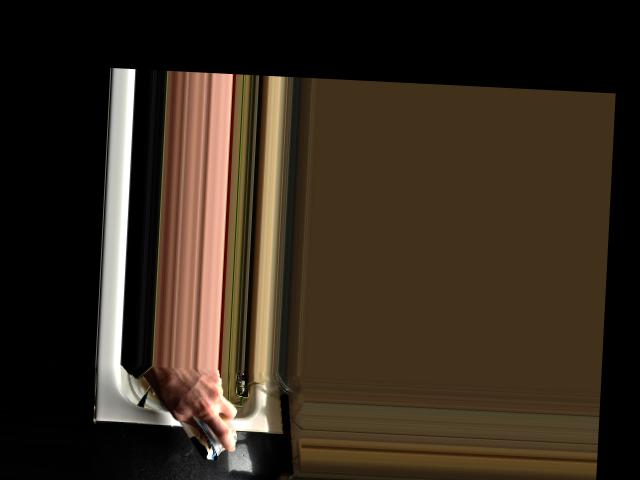cheese: (164, 371, 235, 465)
